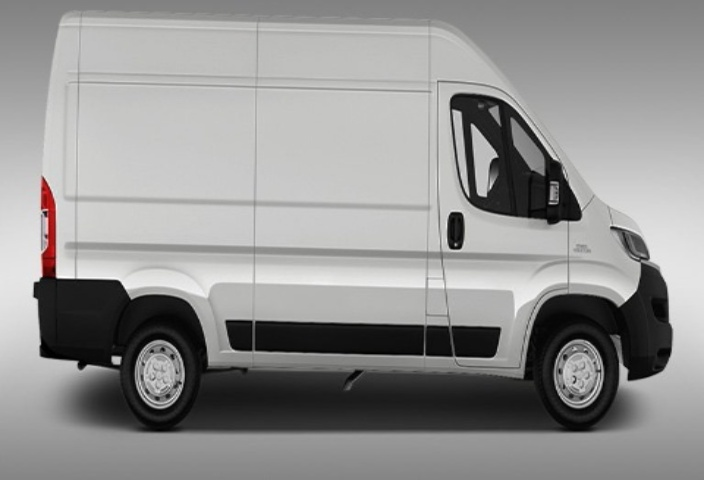van: (19, 9, 692, 444)
